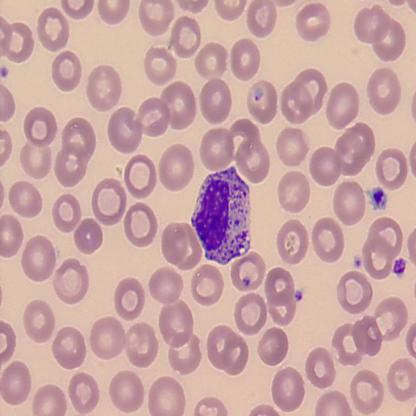Myelocyte: (188, 163, 254, 267)
